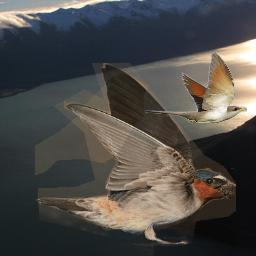Cuckoo: (145, 52, 247, 123)
Swallow: (35, 63, 236, 246)
